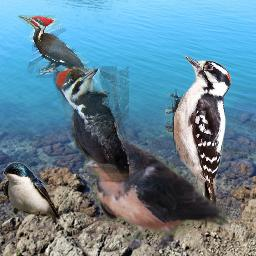Swallow: (83, 138, 230, 250), (3, 162, 61, 224)
Woodpecker: (165, 55, 233, 225), (53, 66, 129, 182), (18, 15, 92, 106)
